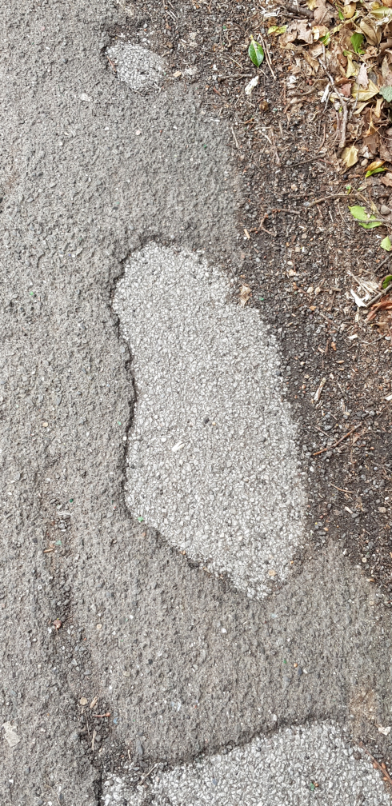pothole: (104, 237, 316, 603), (94, 711, 392, 806), (96, 30, 176, 93)
